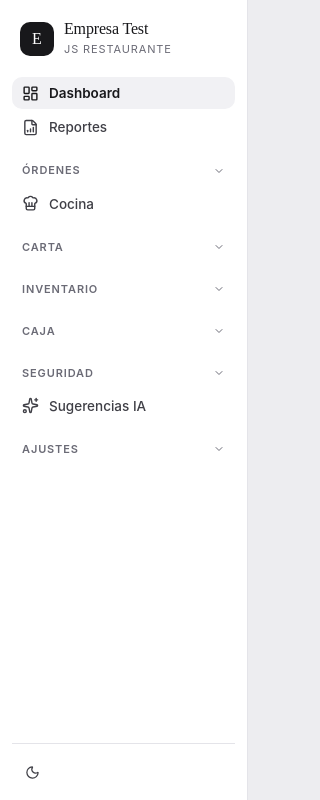
Test: Sidebar con grupos desplegables › al cerrar un grupo sus submódulos salen animados, pero dejan de ser navegables desde el mismo clic
Click the button "Inventario": [124, 289] box [12,274,235,304]
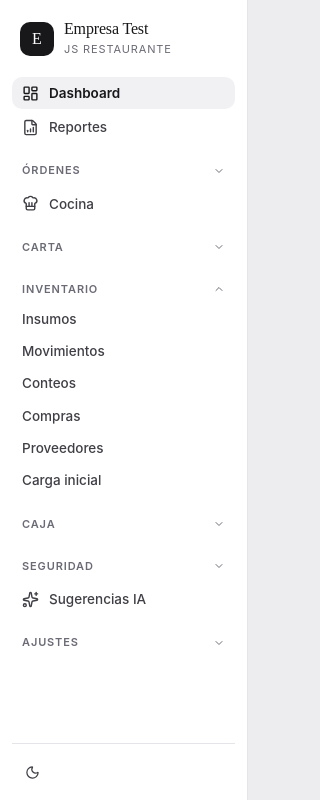
Click the button "Inventario": [124, 289] box [12,274,235,304]
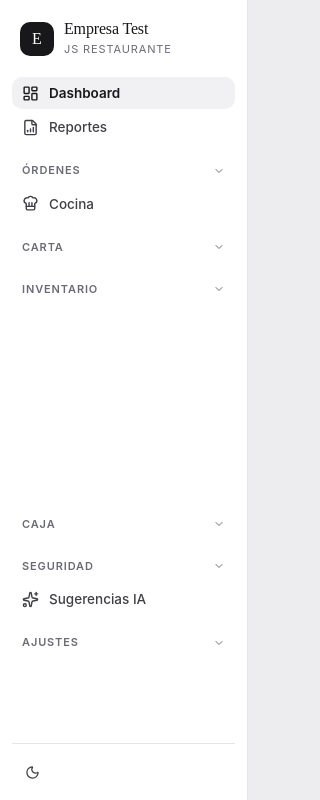
Result: the link "Insumos" is gone
